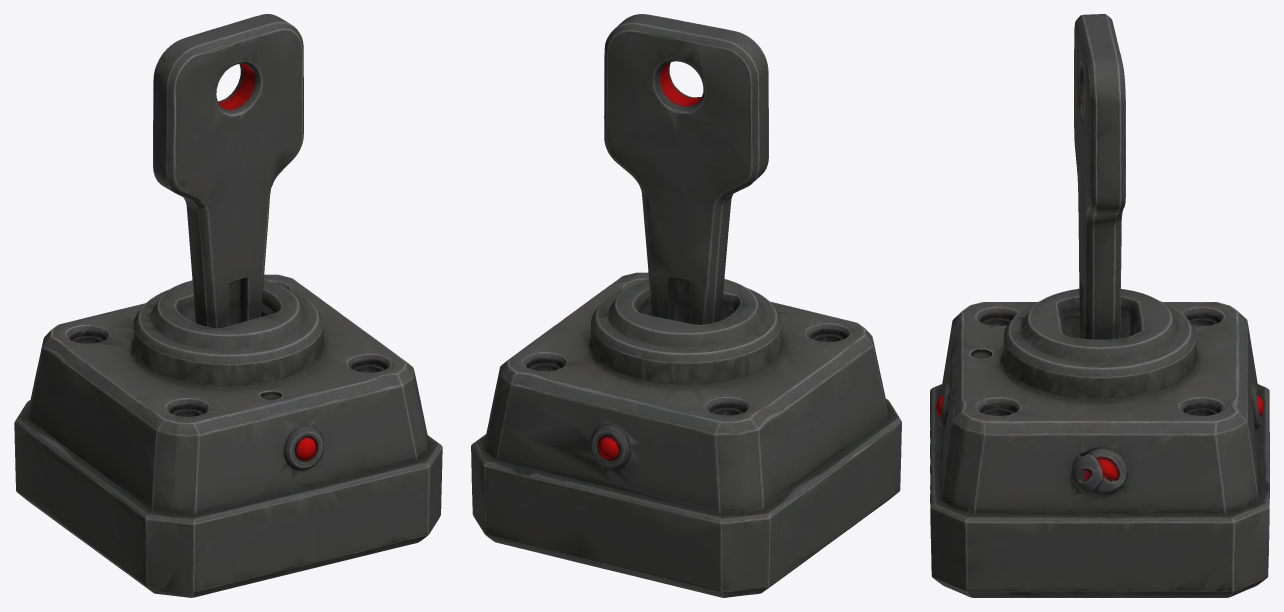
Rendered from paso-4.glb.
3 views of the same model, side by side, from view 1: azimuth 30°, elevation 25°; view 2: azimuth 150°, elevation 25°; view 3: azimuth 270°, elevation 25° (orthographic).
Parts seen in each view (by area): view 1: tripo_node_e10992ff-2db9-4bc8-bc76-9d4c65abea49; view 2: tripo_node_e10992ff-2db9-4bc8-bc76-9d4c65abea49; view 3: tripo_node_e10992ff-2db9-4bc8-bc76-9d4c65abea49.
Boxes of the visible parts, left/top/right/bottom form: tripo_node_e10992ff-2db9-4bc8-bc76-9d4c65abea49: left=14, top=14, right=442, bottom=597; tripo_node_e10992ff-2db9-4bc8-bc76-9d4c65abea49: left=471, top=14, right=901, bottom=597; tripo_node_e10992ff-2db9-4bc8-bc76-9d4c65abea49: left=930, top=14, right=1269, bottom=597.
Bounding box in the file's own units: 0.645 × 1 × 0.6253.
Materials: 1 (1 with a texture image).
